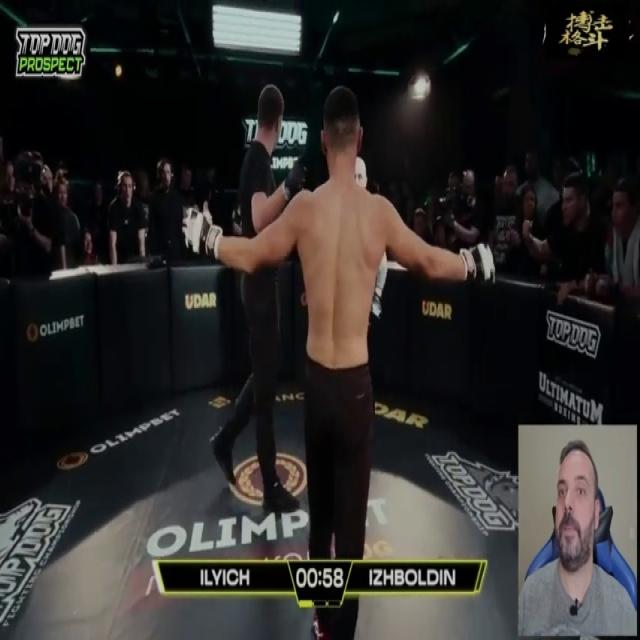fight: (183, 73, 500, 640)
non-fight: (211, 84, 307, 515)
